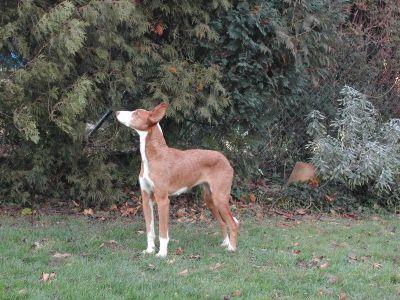Ibizan_hound: (112, 101, 239, 256)
